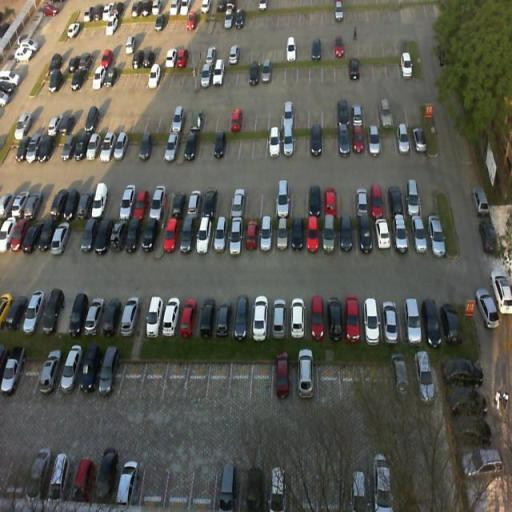Slot-empty: (136, 453, 174, 512), (161, 351, 195, 412), (142, 349, 172, 407), (162, 461, 196, 512), (316, 355, 348, 409), (227, 356, 258, 410), (334, 359, 370, 405), (120, 351, 150, 406), (15, 350, 48, 400), (248, 356, 278, 408), (190, 460, 220, 512), (206, 358, 236, 408), (186, 359, 214, 406), (250, 108, 274, 135), (306, 60, 327, 90), (320, 58, 340, 89), (236, 138, 257, 164), (294, 63, 314, 89), (283, 65, 302, 87)
Slot-occupied: (397, 294, 430, 350), (293, 346, 319, 410), (270, 347, 294, 406), (20, 288, 47, 337), (342, 295, 367, 347), (326, 294, 350, 348), (307, 290, 330, 346), (268, 292, 292, 344), (118, 290, 142, 340), (250, 286, 270, 345), (230, 294, 254, 342), (101, 290, 124, 338), (44, 284, 64, 338), (144, 293, 164, 343), (176, 294, 198, 339), (68, 289, 88, 338), (287, 294, 308, 340), (85, 291, 106, 337), (198, 294, 219, 340), (214, 294, 235, 340)
